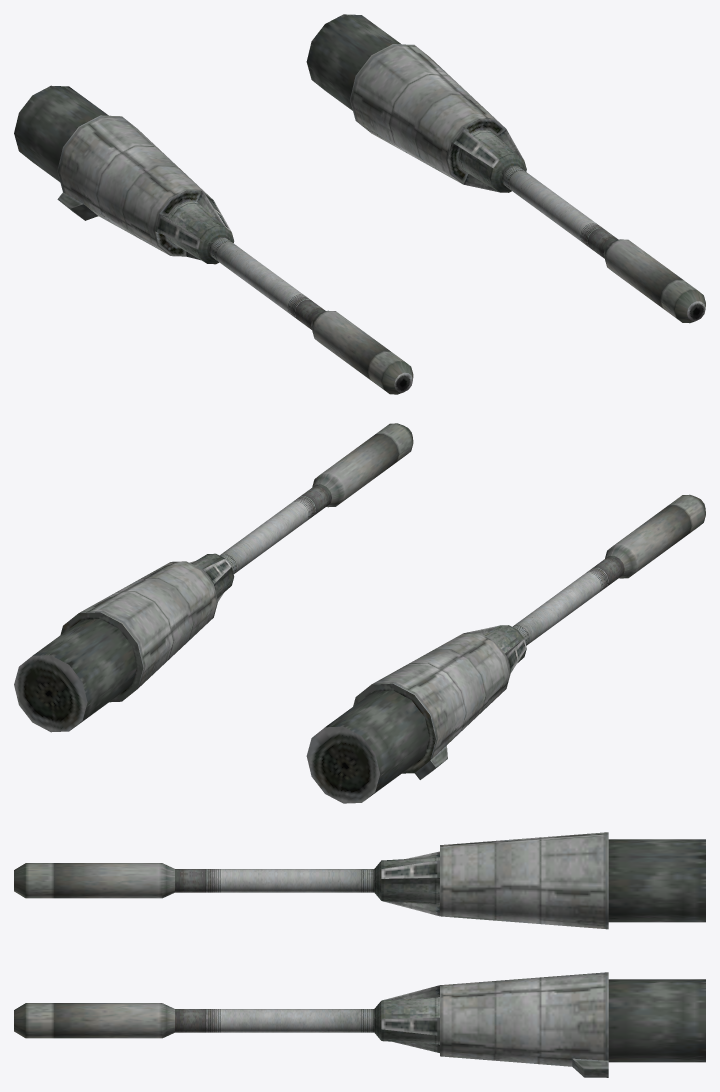
Rendered from bwing_weapon1_s05_l0.fbx.
3 views of the same model, one above another, from view 1: azimuth 30°, elevation 25°; view 2: azimuth 150°, elevation 25°; view 3: azimuth 270°, elevation 25° (orthographic).
Parts seen in each view (by area): view 1: mesh_node; view 2: mesh_node; view 3: mesh_node.
Boxes of the visible parts, <box> form: mesh_node: <box>14,14,705,394</box>; mesh_node: <box>14,423,705,803</box>; mesh_node: <box>14,832,705,1077</box>.
Bounding box in the file's own units: 1.02 × 0.2324 × 1.65.
1 material, 1 textured.
